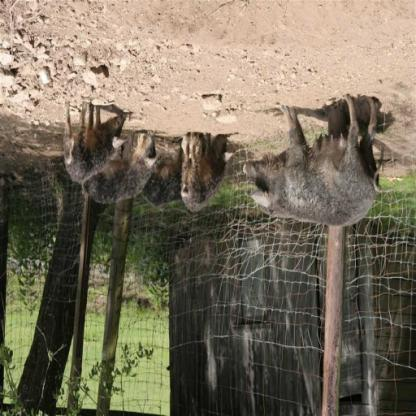boar: (246, 94, 383, 240), (174, 122, 243, 214), (84, 132, 166, 204), (54, 107, 135, 179)
